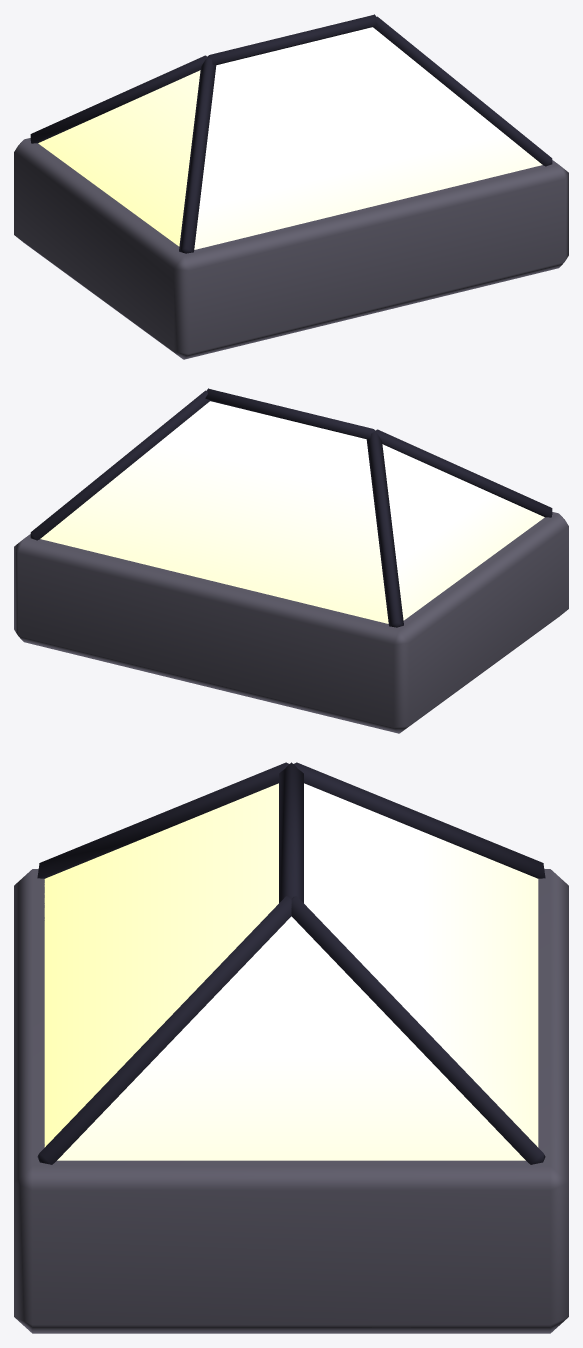
File: skylight.glb
The picture shows the model from 3 angles, top to bottom: view 1: azimuth 30°, elevation 25°; view 2: azimuth 150°, elevation 25°; view 3: azimuth 270°, elevation 25°; orthographic projection. The views are drawn at different scales.
Visible parts, largest first — view 1: skylight, glass; view 2: skylight, glass; view 3: glass, skylight.
Boxes of the visible parts, x1=… form: skylight: x1=14, y1=14, x2=568, y2=359; glass: x1=38, y1=27, x2=542, y2=249; skylight: x1=14, y1=388, x2=568, y2=733; glass: x1=40, y1=401, x2=544, y2=623; glass: x1=44, y1=783, x2=538, y2=1160; skylight: x1=14, y1=762, x2=568, y2=1333.
Bounding box in the file's own units: 1.2 × 0.64 × 0.9.
